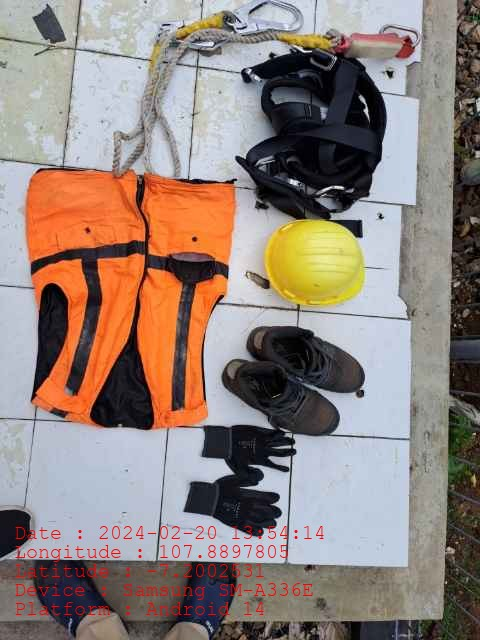HELM: (265, 219, 364, 305)
ROMPI: (31, 169, 213, 429)
SARUNG_TANGAN: (201, 424, 299, 479)
SEPATU: (220, 325, 366, 436)
